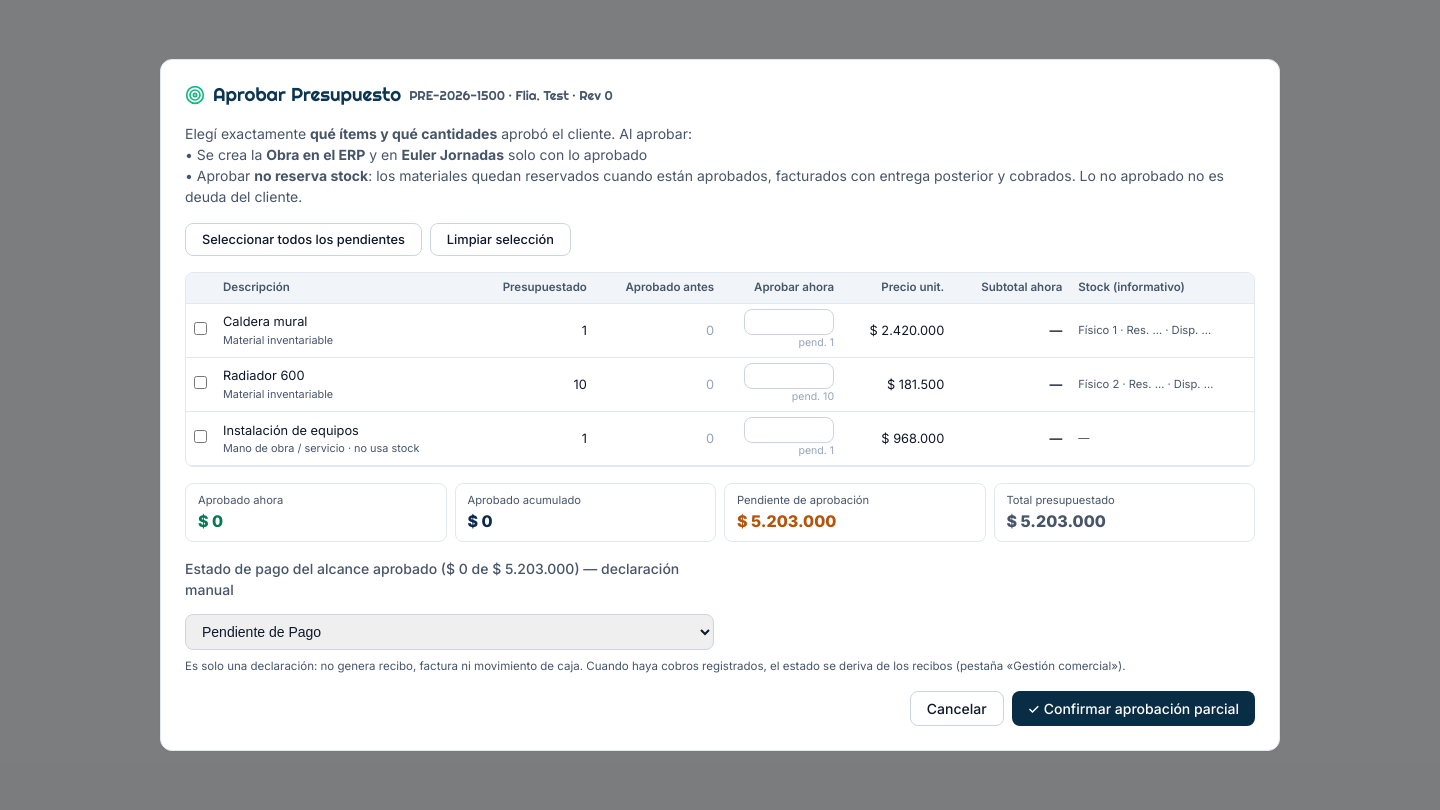
Test: Pop-up «Aprobar Presupuesto» ampliado › marca el error y bloquea si la cantidad supera lo pendiente
Type "11" into the number field in the row of "Radiador 600". click: (789, 376)
box: [744,363,834,389]
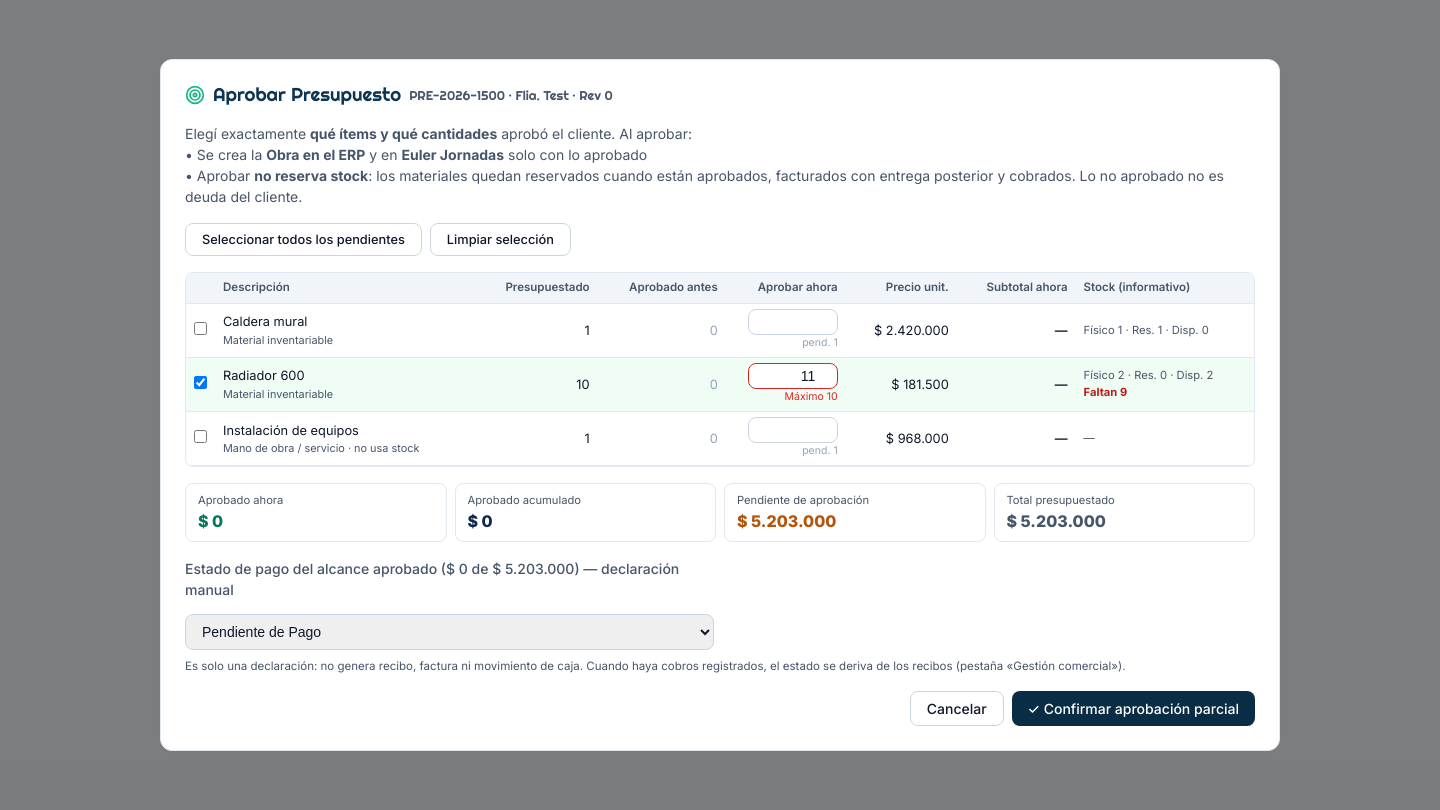
Expected: the button "✓ Confirmar aprobación parcial" is disabled, [1012,691,1255,726]
Result: the text "Máximo 10" is shown at [784,390,838,403]
